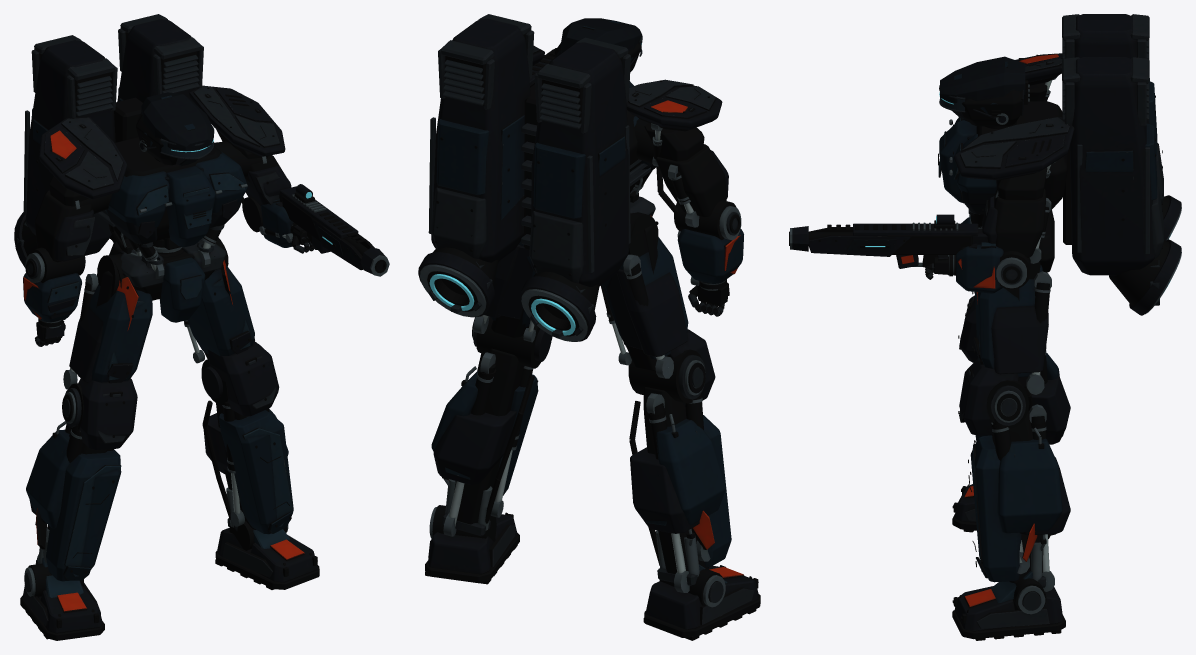
Rendered from m07-cangyan-campaign-v11.glb.
3 views of the same model, side by side, from view 1: azimuth 30°, elevation 25°; view 2: azimuth 150°, elevation 25°; view 3: azimuth 270°, elevation 25° (orthographic). The views are drawn at different scales.
Visible parts, largest first — view 1: M07_Upper_cangyan_armor, M07_Shin_L_armor, M07_Shin_R_armor, M07_Upper_armor, M07_Thigh_L_armor, M07_Body_armor, M07_Rifle_armor, M07_Foot_R_armor, M07_Foot_L_armor, M07_Thigh_R_armor, M07_Arm_L_armor, M07_Head_cangyan_armor (+3 smaller); view 2: M07_Upper_cangyan_armor, M07_Shin_L_armor, M07_Shin_R_armor, M07_Thigh_L_armor, M07_Foot_L_armor, M07_Arm_L_armor, M07_Foot_R_armor, M07_Forearm_L_armor, M07_Thigh_R_armor, M07_Head_cangyan_armor, M07_Upper_armor, M07_Upper_cangyan_optics (+1 smaller); view 3: M07_Upper_cangyan_armor, M07_Shin_R_armor, M07_Rifle_armor, M07_Thigh_R_armor, M07_Foot_R_armor, M07_Head_cangyan_armor, M07_Arm_R_armor, M07_Upper_armor, M07_Shin_L_armor, M07_Hatch_armor, M07_Foot_L_armor, M07_Body_armor.
Boxes of the visible parts, x1=… form: M07_Upper_cangyan_armor: x1=14, y1=14, x2=285, y2=267; M07_Shin_L_armor: x1=26, y1=378, x2=137, y2=581; M07_Shin_R_armor: x1=201, y1=341, x2=293, y2=534; M07_Upper_armor: x1=95, y1=137, x2=247, y2=279; M07_Thigh_L_armor: x1=63, y1=254, x2=152, y2=389; M07_Body_armor: x1=96, y1=239, x2=233, y2=330; M07_Rifle_armor: x1=259, y1=184, x2=389, y2=276; M07_Foot_R_armor: x1=215, y1=521, x2=319, y2=589; M07_Foot_L_armor: x1=20, y1=558, x2=104, y2=640; M07_Thigh_R_armor: x1=184, y1=237, x2=254, y2=363; M07_Arm_L_armor: x1=25, y1=190, x2=94, y2=283; M07_Head_cangyan_armor: x1=136, y1=92, x2=214, y2=166; M07_Upper_cangyan_armor: x1=418, y1=14, x2=722, y2=341; M07_Shin_L_armor: x1=628, y1=329, x2=731, y2=592; M07_Shin_R_armor: x1=431, y1=316, x2=552, y2=536; M07_Thigh_L_armor: x1=600, y1=212, x2=688, y2=378; M07_Foot_L_armor: x1=643, y1=564, x2=760, y2=640; M07_Arm_L_armor: x1=655, y1=144, x2=741, y2=240; M07_Foot_R_armor: x1=425, y1=505, x2=519, y2=584; M07_Forearm_L_armor: x1=677, y1=229, x2=743, y2=316; M07_Thigh_R_armor: x1=473, y1=241, x2=535, y2=342; M07_Head_cangyan_armor: x1=554, y1=18, x2=642, y2=71; M07_Upper_armor: x1=530, y1=83, x2=656, y2=202; M07_Upper_cangyan_optics: x1=429, y1=274, x2=575, y2=335; M07_Upper_cangyan_armor: x1=954, y1=14, x2=1181, y2=315; M07_Shin_R_armor: x1=958, y1=358, x2=1070, y2=591; M07_Rifle_armor: x1=789, y1=214, x2=1003, y2=293; M07_Thigh_R_armor: x1=972, y1=261, x2=1051, y2=394; M07_Foot_R_armor: x1=952, y1=571, x2=1065, y2=640; M07_Head_cangyan_armor: x1=939, y1=56, x2=1029, y2=126; M07_Arm_R_armor: x1=982, y1=189, x2=1051, y2=289; M07_Upper_armor: x1=949, y1=101, x2=1067, y2=228; M07_Shin_L_armor: x1=958, y1=295, x2=1070, y2=449; M07_Hatch_armor: x1=938, y1=120, x2=976, y2=202; M07_Foot_L_armor: x1=952, y1=484, x2=1055, y2=539; M07_Body_armor: x1=961, y1=209, x2=1054, y2=304.
Size of the model in its own units: 9.44 by 17.16 by 11.53.
3 materials, 1 textured.
